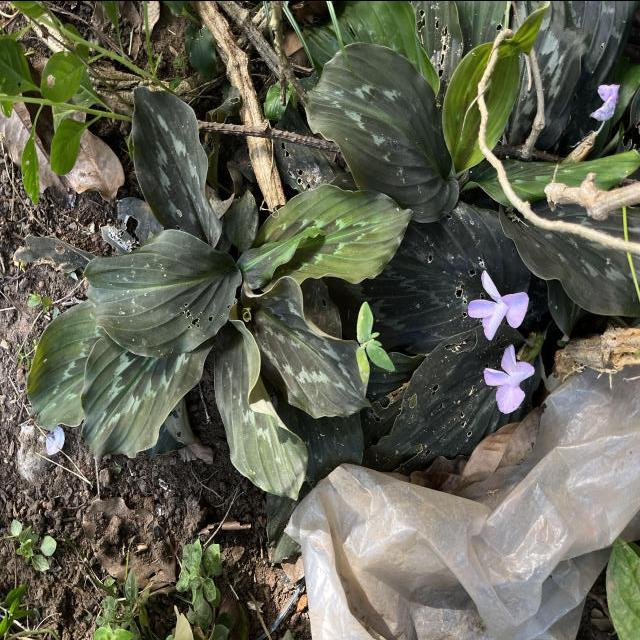Kaempferia galanga linn: (303, 39, 462, 225), (82, 226, 245, 359), (212, 296, 310, 502), (238, 273, 374, 419), (79, 332, 219, 462), (251, 180, 416, 288), (130, 83, 224, 250), (235, 224, 328, 290)
